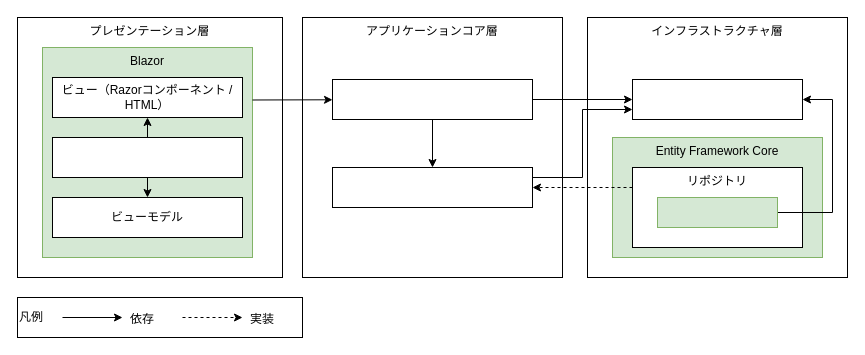
This 865x355 diagram has some shape labels left out. Here are the shapes that lost their labels. From the top down, the centre of each, then its label:
point (432, 99): アプリケーションサービス
point (717, 99): テーブルエンティティ
point (147, 157): バインド変数・プロパティ
point (432, 187): リポジトリインターフェース
point (717, 212): DbContext
